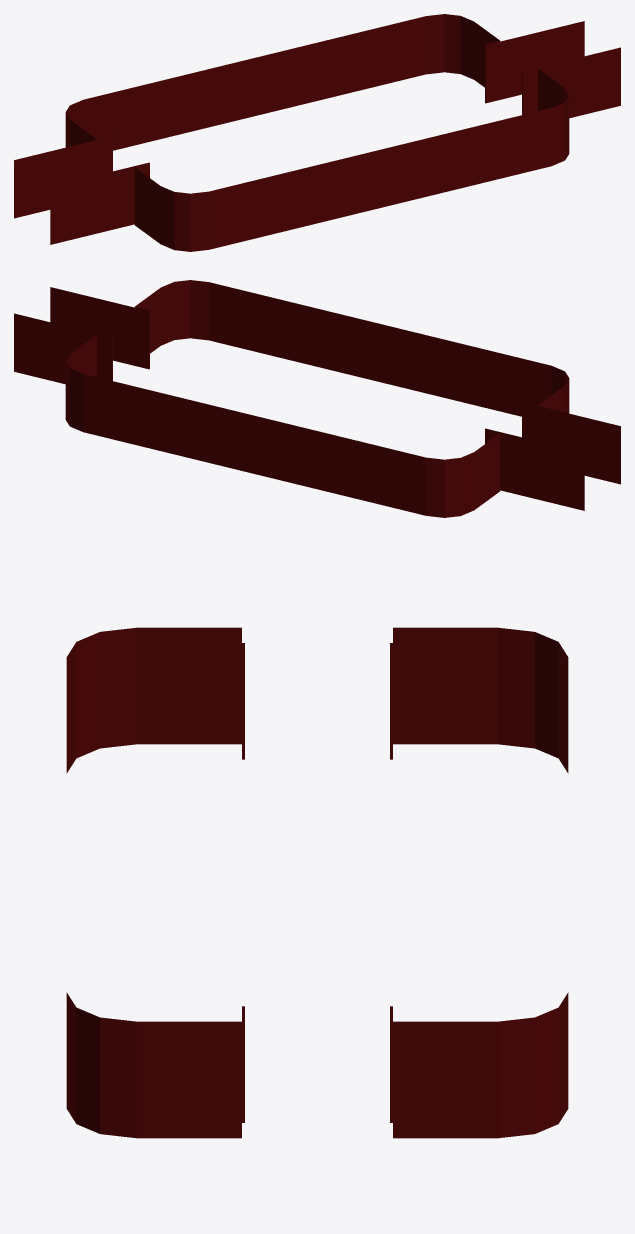
The model's file is walls.obj.
3 views of the same model, one above another, from view 1: azimuth 30°, elevation 25°; view 2: azimuth 150°, elevation 25°; view 3: azimuth 270°, elevation 25° (orthographic). The views are drawn at different scales.
Visible parts, largest first — view 1: Plane.003_Plane.005; view 2: Plane.003_Plane.005; view 3: Plane.003_Plane.005.
Boxes of the visible parts, x1,y1,x2,y2 form: Plane.003_Plane.005: (14,14,620,251); Plane.003_Plane.005: (14,280,620,517); Plane.003_Plane.005: (66,627,568,1138).
Bounding box in the file's own units: 20.48 × 2 × 7.8.
